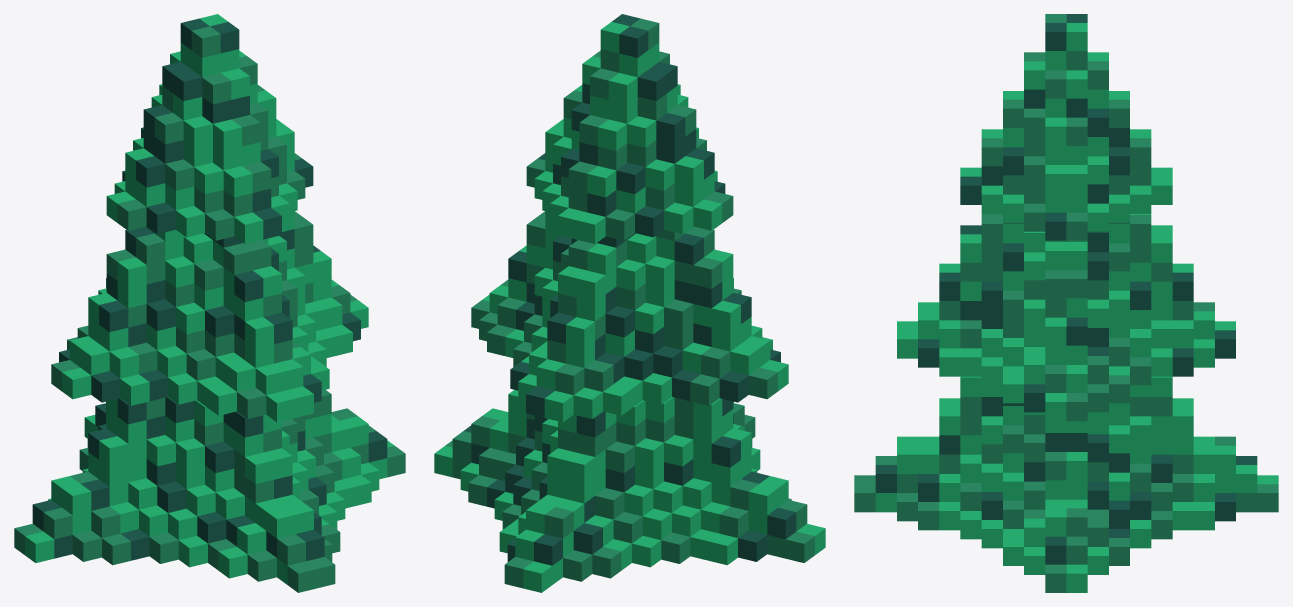
File: Smol-Pine-1.obj
The picture shows the model from 3 angles, left to right: view 1: azimuth 30°, elevation 25°; view 2: azimuth 150°, elevation 25°; view 3: azimuth 270°, elevation 25°; orthographic projection.
Size of the model in its own units: 2 by 2.5 by 2.
Materials: 1 (1 with a texture image).
